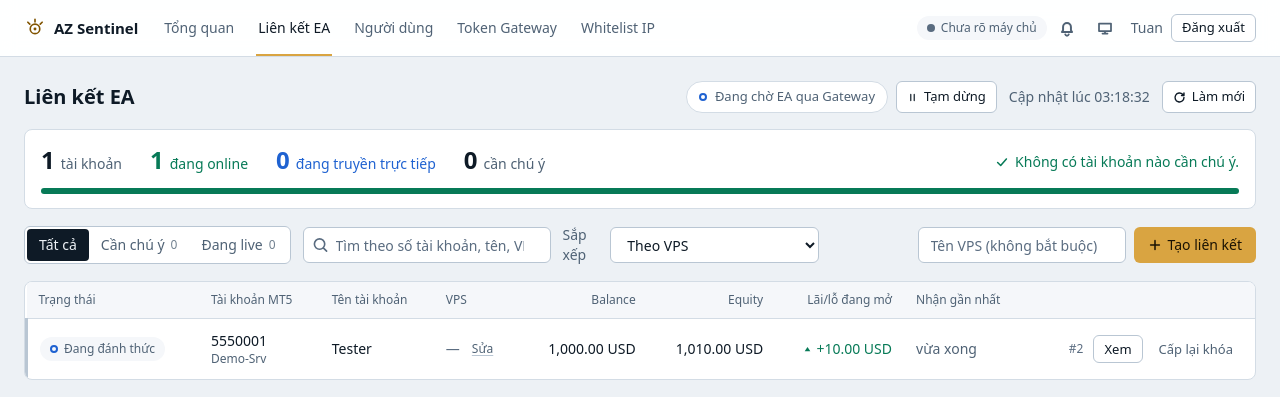
Test: mở/đóng kết nối (F-01..F-08, F-16, F-19) › F-08: localStorage ném lỗi vẫn chạy với Live bật và không hỏng khi tạm dừng
The image size is (1280, 397).
Click the button "Tạm dừng": point(946, 97) x1=896 y1=81 x2=997 y2=113
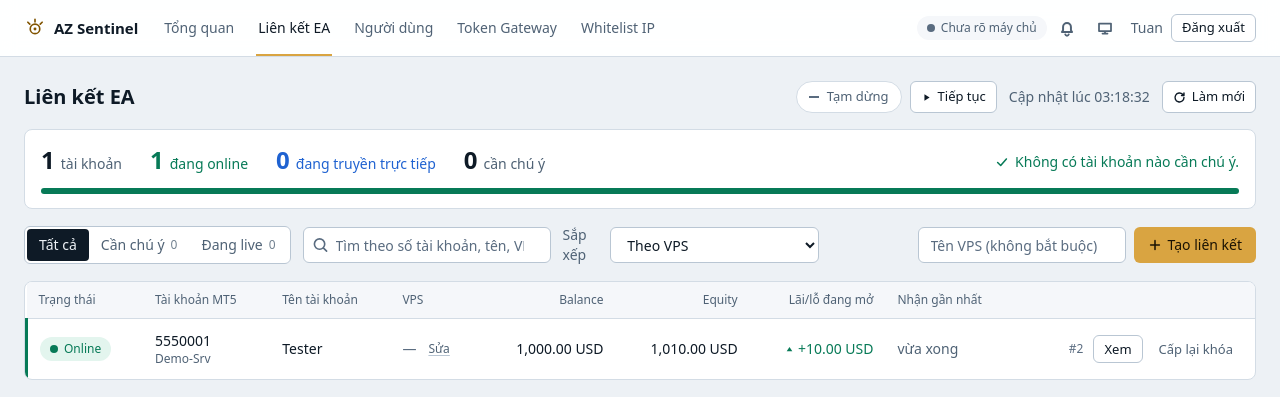
Now the button "Tiếp tục" is shown, box x1=910 y1=81 x2=997 y2=113
